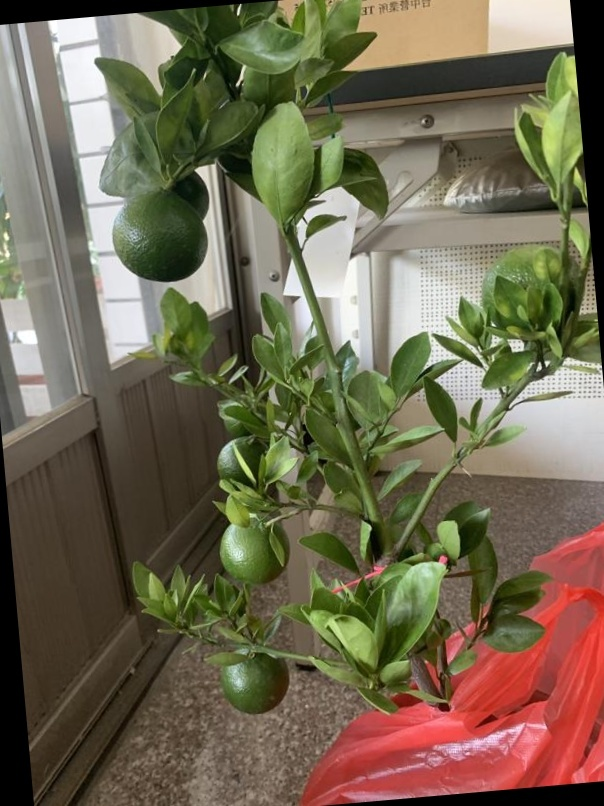Tangerine: (113, 188, 212, 283), (219, 517, 291, 586), (221, 647, 290, 715), (214, 430, 274, 488)
